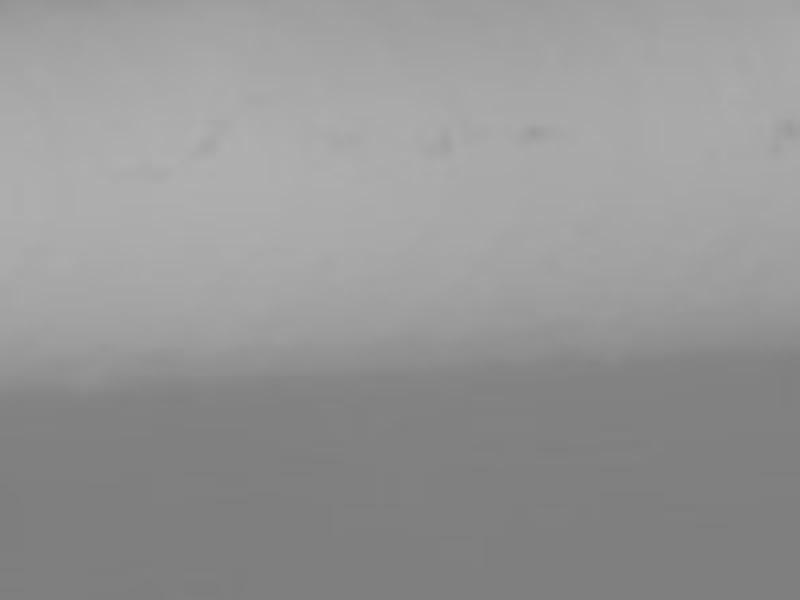defect: (325, 128, 363, 147), (130, 163, 164, 181), (435, 127, 453, 155), (779, 116, 800, 140), (196, 132, 215, 158), (523, 121, 546, 138), (768, 139, 780, 153)
